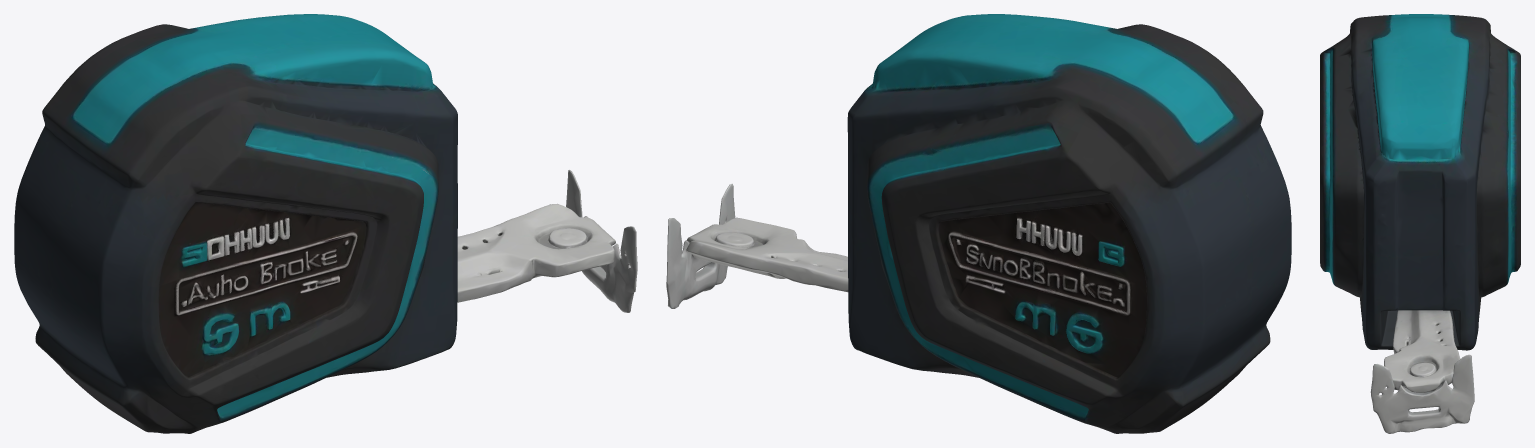
The model's file is measuring-tape-wide-blade.glb.
3 views of the same model, side by side, from view 1: azimuth 30°, elevation 25°; view 2: azimuth 150°, elevation 25°; view 3: azimuth 270°, elevation 25° (orthographic). The views are drawn at different scales.
Visible parts, largest first — view 1: tripo_node_2789800a-ff7c-4dec-8cb0-9e89896c6d44; view 2: tripo_node_2789800a-ff7c-4dec-8cb0-9e89896c6d44; view 3: tripo_node_2789800a-ff7c-4dec-8cb0-9e89896c6d44.
Boxes of the visible parts, bbox=[...] form: tripo_node_2789800a-ff7c-4dec-8cb0-9e89896c6d44: bbox=[14, 14, 637, 433]; tripo_node_2789800a-ff7c-4dec-8cb0-9e89896c6d44: bbox=[666, 14, 1291, 433]; tripo_node_2789800a-ff7c-4dec-8cb0-9e89896c6d44: bbox=[1320, 14, 1520, 433].
Bounding box in the file's own units: 1 × 0.5998 × 0.4178.
1 material, 1 textured.
